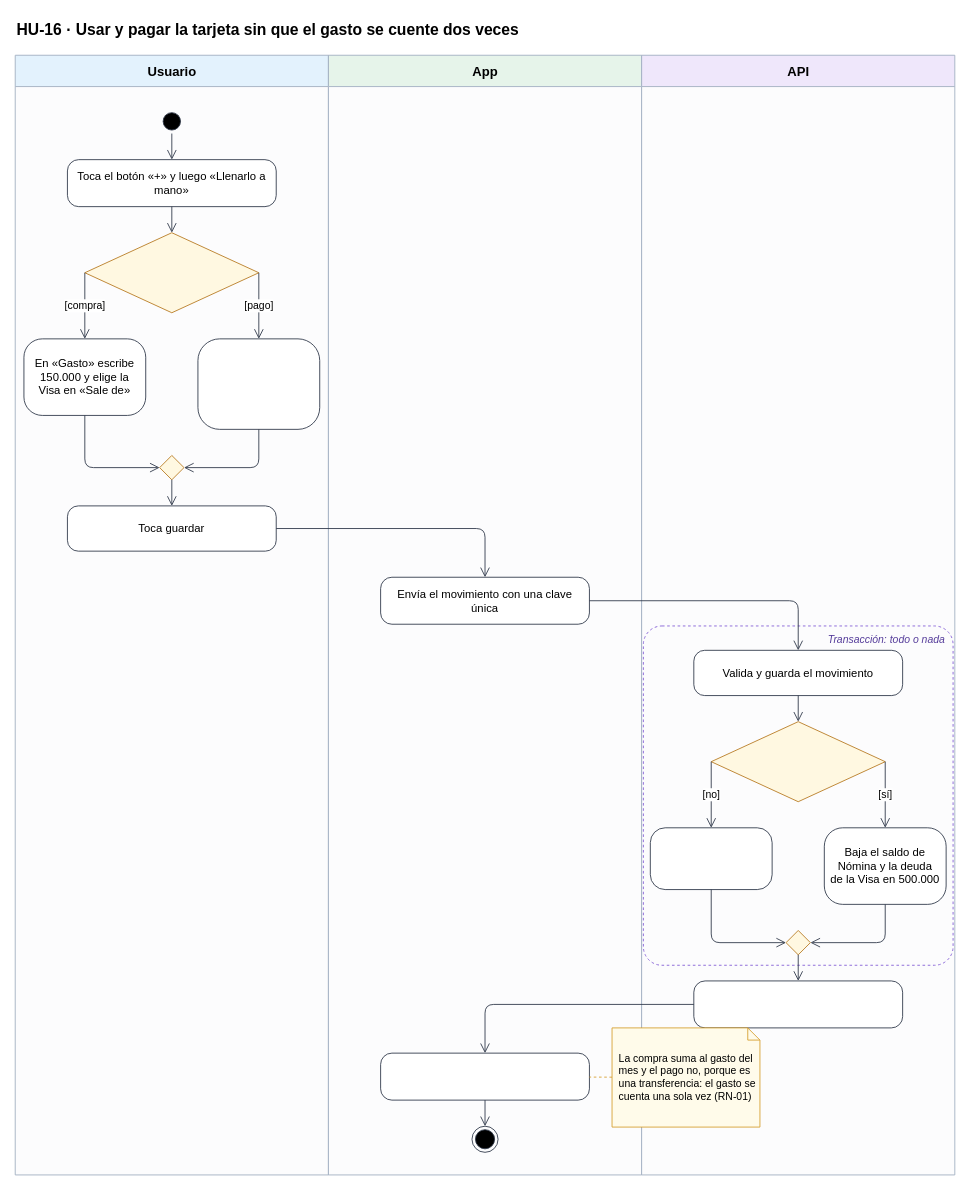
Some shapes in this 970 by 1190 pixel diagram are drawn without their labels. Here are the shapes that lost their labels. From the top down, the centre of each, then its label:
point 171,272: ¿Qué registra Ana?
point 258,383: En «Transferencia» escribe 500.000, «De» Nómina y «A» Visa
point 797,761: ¿Es una transferencia?
point 710,858: Sube la deuda de la Visa en 150.000
point 798,1004: Confirma la transacción y responde
point 484,1076: Muestra el aviso y actualiza Inicio, Movimientos y saldos
